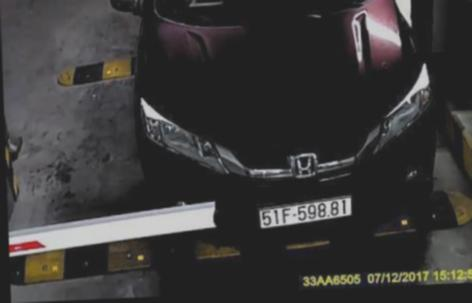License_Plate: (253, 191, 361, 233)
